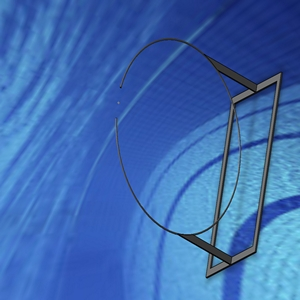circle: (112, 35, 282, 279)
